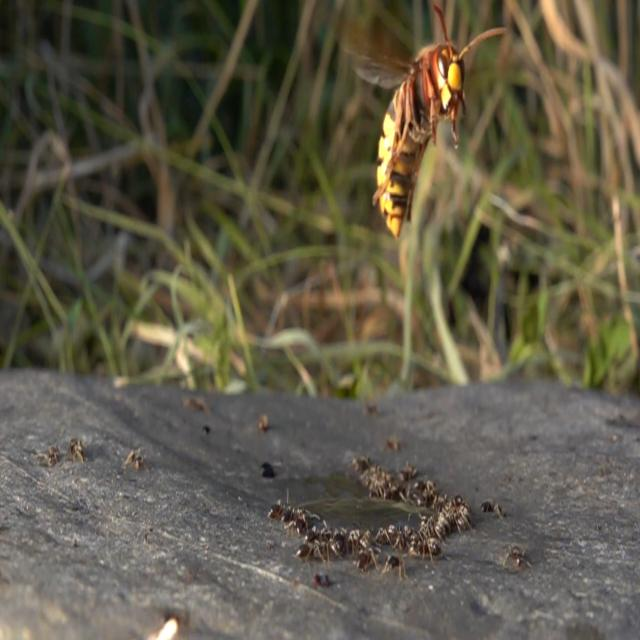Hornets: (352, 0, 506, 243)
